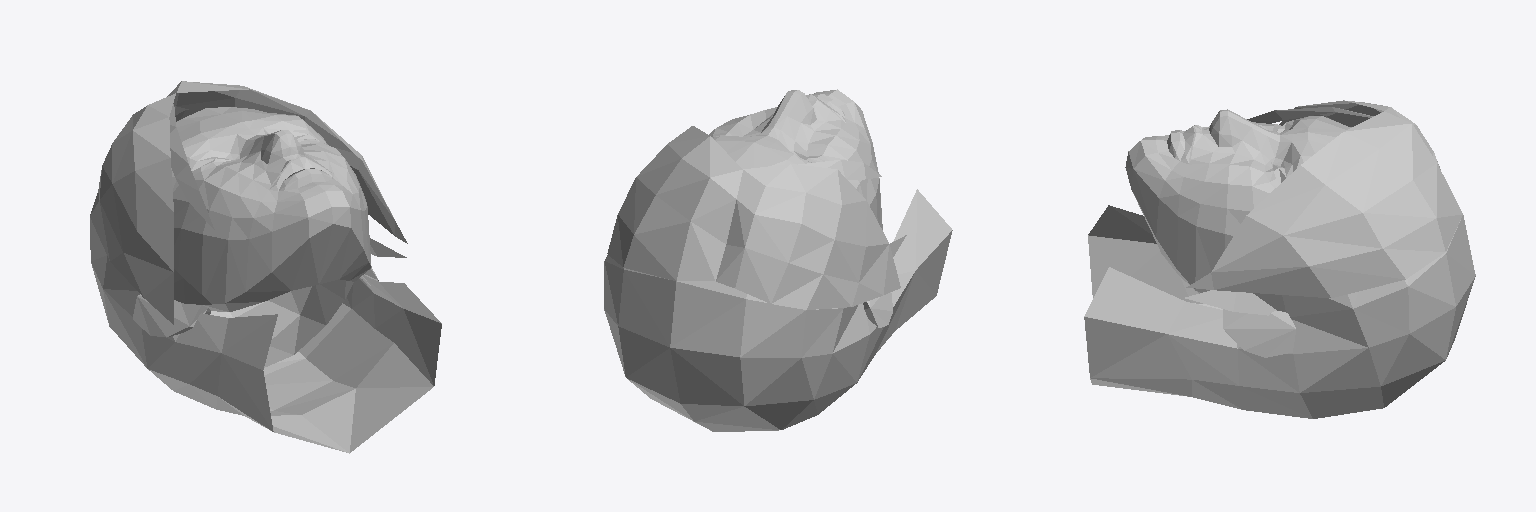
Rendered from Mage Female Head.obj.
The picture shows the model from 3 angles: view 1: azimuth 30°, elevation 25°; view 2: azimuth 150°, elevation 25°; view 3: azimuth 270°, elevation 25°; orthographic projection.
Parts seen in each view (by area): view 1: object2, object1; view 2: object2, object1; view 3: object2, object1.
Part boxes in pixels (left/top/right/bottom): object2: left=90, top=81, right=441, bottom=453; object1: left=133, top=107, right=378, bottom=367; object2: left=604, top=126, right=952, bottom=431; object1: left=709, top=89, right=892, bottom=327; object2: left=1084, top=100, right=1475, bottom=418; object1: left=1125, top=109, right=1351, bottom=357.
Size of the model in its own units: 0.1598 by 0.189 by 0.2312.